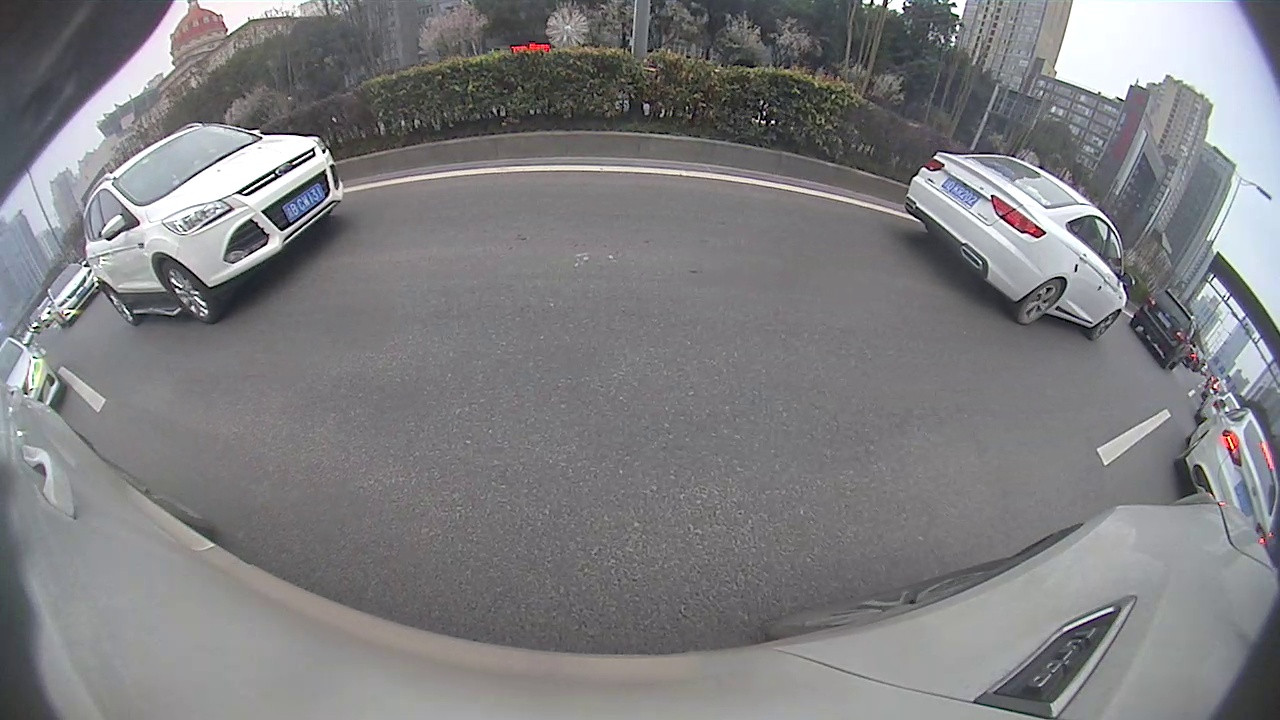car: (78, 119, 344, 328), (903, 148, 1136, 342), (1173, 396, 1279, 542), (1130, 286, 1199, 371), (1, 334, 67, 411)
front: (162, 259, 220, 325), (1087, 309, 1121, 342)
rear: (1013, 277, 1067, 327), (105, 284, 138, 327)
